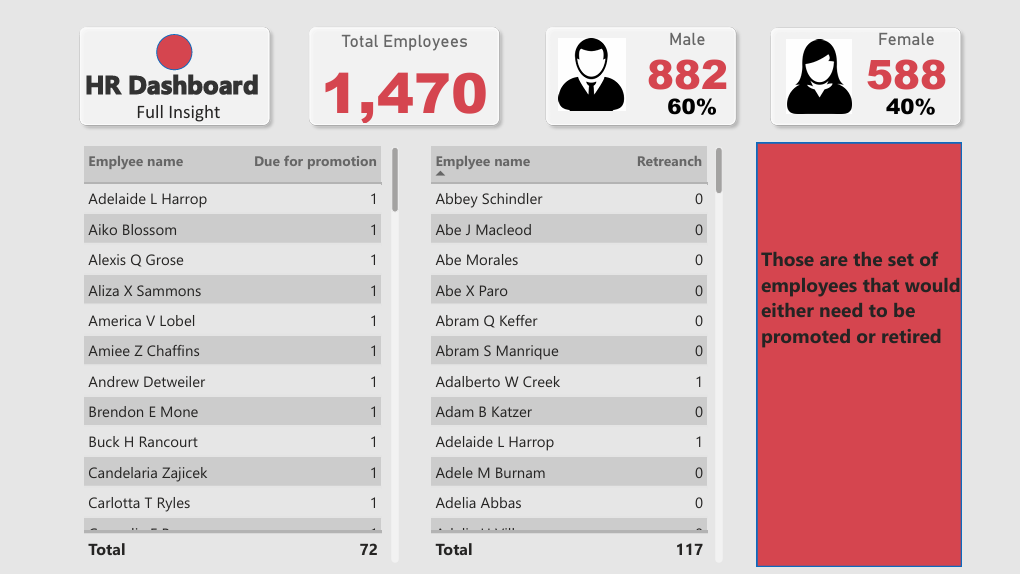

The dashboard page shown, as its layout file describes it:
{"tool":"powerbi","page":{"name":"Action","canvas":[1280,720],"ordinal":1},"visuals":[{"type":"shape","box":[94.4,27,255.4,140.6],"z":0},{"type":"shape","box":[381.3,27,255.4,140.6],"z":1000},{"type":"shape","box":[677.1,27,255.4,140.6],"z":2000},{"type":"shape","box":[958.4,28.1,255.4,139.5],"z":3000},{"type":"textbox","box":[94.4,85.5,247.5,52.9],"z":4000},{"type":"textbox","box":[164.1,121.5,124.9,43.9],"z":5000},{"type":"shape","box":[199,45,45,45],"z":6000},{"type":"card","title":"Total Employees","fields":{"Values":["All Measures.Total Emp"]},"box":[395.9,40.5,227.2,120.4],"z":7000},{"type":"card","title":"Male","fields":{"Values":["All Measures.Male"]},"box":[805.4,38.2,115.9,83.2],"z":8000},{"type":"card","fields":{"Values":["All Measures.% Male"]},"box":[805.4,97.9,127.1,76.5],"z":9000},{"type":"card","title":"Female","fields":{"Values":["All Measures.Female"]},"box":[1078.8,38.2,115.9,83.2],"z":10000},{"type":"card","fields":{"Values":["All Measures.% Female"]},"box":[1078.8,97.9,127.1,76.5],"z":11000},{"type":"image","box":[697.4,43.9,93.4,102.4],"z":12000},{"type":"image","box":[975.3,47.2,105.8,102.4],"z":13000},{"type":"tableEx","fields":{"Values":["HR employee data.Emplyee name","All Measures.Retreanch"]},"box":[536.6,181.1,375.8,529.9],"z":14000},{"type":"tableEx","fields":{"Values":["HR Analytics Data.Emplyee name","All Measures.Due for promotion"]},"box":[103.4,181.1,403.9,529.9],"z":15000},{"type":"shape","box":[949.5,181.1,256.5,529.9],"z":16000},{"type":"textbox","box":[949.5,303.8,279,300.4],"z":17000}]}

Visuals, with their boxes in screenshot pixels (x1, y1, x2, y2), scaled from the page's 1280x720 canvas onto the 1020x577 screenshot:
shape: <box>75,22,279,134</box>
shape: <box>304,22,507,134</box>
shape: <box>540,22,743,134</box>
shape: <box>764,23,967,134</box>
textbox: <box>75,69,272,111</box>
textbox: <box>131,97,230,133</box>
shape: <box>159,36,194,72</box>
"Total Employees" card: <box>315,32,497,129</box>
"Male" card: <box>642,31,734,97</box>
card - All Measures.% Male: <box>642,78,743,140</box>
"Female" card: <box>860,31,952,97</box>
card - All Measures.% Female: <box>860,78,961,140</box>
image: <box>556,35,630,117</box>
image: <box>777,38,862,120</box>
tableEx - HR employee data.Emplyee name x All Measures.Retreanch: <box>428,145,727,570</box>
tableEx - HR Analytics Data.Emplyee name x All Measures.Due for promotion: <box>82,145,404,570</box>
shape: <box>757,145,961,570</box>
textbox: <box>757,243,979,484</box>
